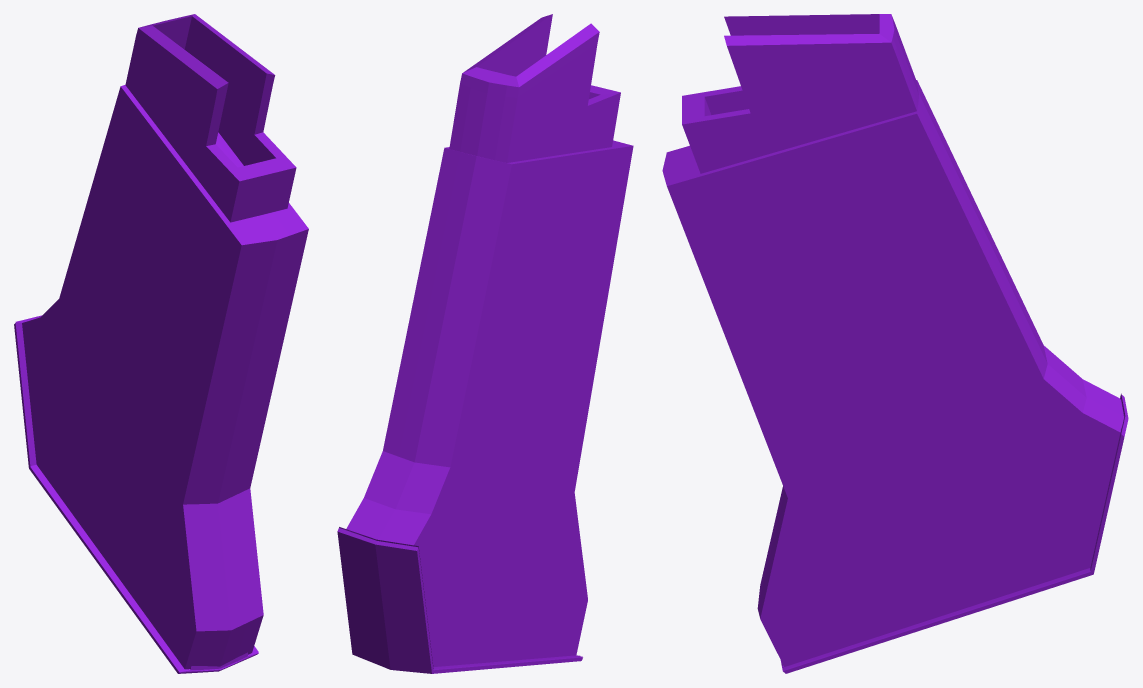
The model's file is PistolMagazin.FBX.
The picture shows the model from 3 angles, left to right: view 1: azimuth 30°, elevation 25°; view 2: azimuth 150°, elevation 25°; view 3: azimuth 270°, elevation 25°; orthographic projection. The views are drawn at different scales.
Parts seen in each view (by area): view 1: m2, M1; view 2: m2, M1; view 3: m2, M1.
Part boxes in pixels (x1,y1,x2,y2): m2: (15,85,308,671); M1: (14,14,296,673); m2: (339,140,633,668); M1: (337,14,620,673); m2: (662,80,1124,669); M1: (682,14,1128,673).
Bounding box in the file's own units: 10.16 × 50.07 × 75.45.
